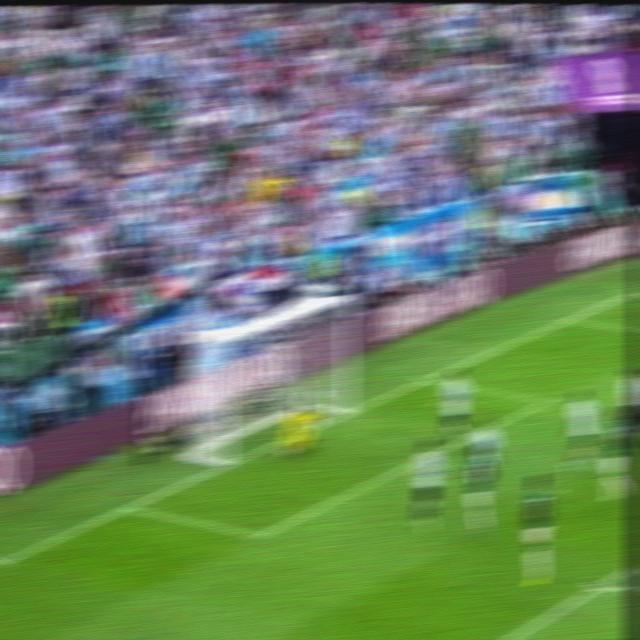bigarea_bottom_outter: (584, 571, 614, 600)
bigarea_top_outter: (558, 310, 580, 326)
bottom_arc_area_intersection: (584, 572, 614, 601)
smallarea_bottom_inner: (243, 514, 278, 554)
smallarea_bottom_outter: (114, 489, 145, 522)
smallarea_top_inner: (533, 387, 560, 415)
smallarea_top_outter: (415, 368, 439, 390)
